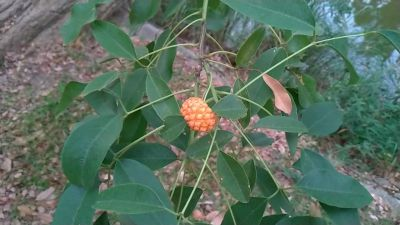eggs: (179, 91, 220, 133)
